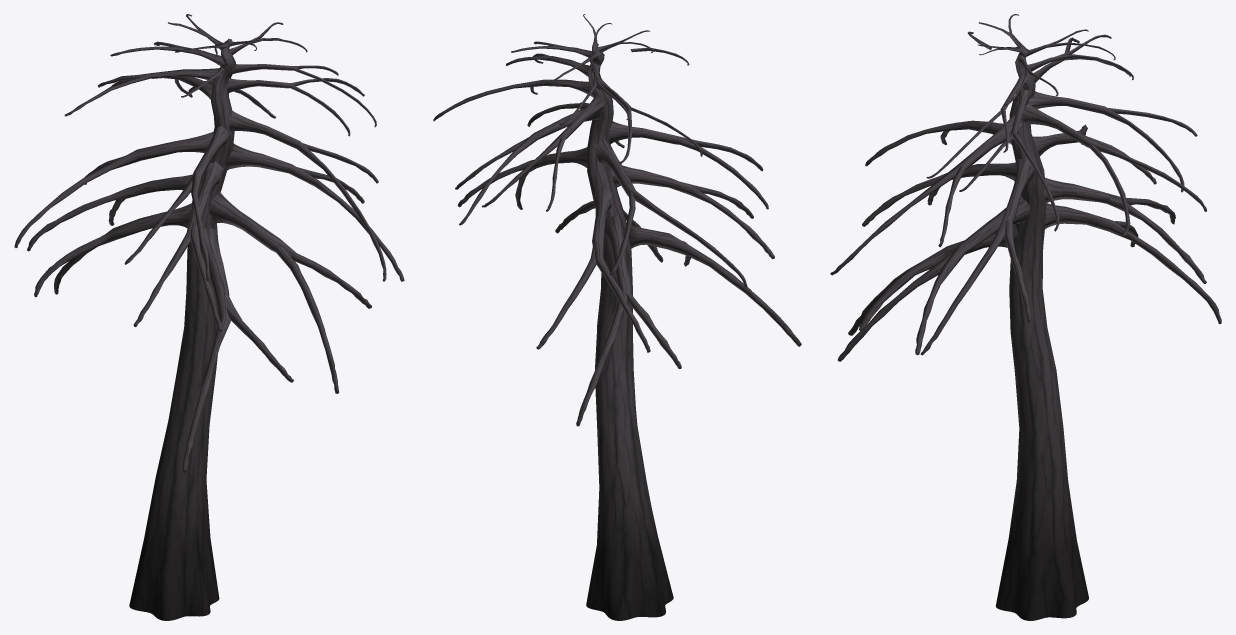
The model's file is DeadTree_4.gltf.
3 views of the same model, side by side, from view 1: azimuth 30°, elevation 25°; view 2: azimuth 150°, elevation 25°; view 3: azimuth 270°, elevation 25° (orthographic). The views are drawn at different scales.
Parts seen in each view (by area): view 1: DeadTree_4; view 2: DeadTree_4; view 3: DeadTree_4.
Boxes of the visible parts, x1,y1,x2,y2 form: DeadTree_4: (14,14,404,620); DeadTree_4: (433,14,801,620); DeadTree_4: (830,14,1221,620).
Bounding box in the file's own units: 7.96 × 12.77 × 7.73.
Materials: 1 (1 with a texture image).
